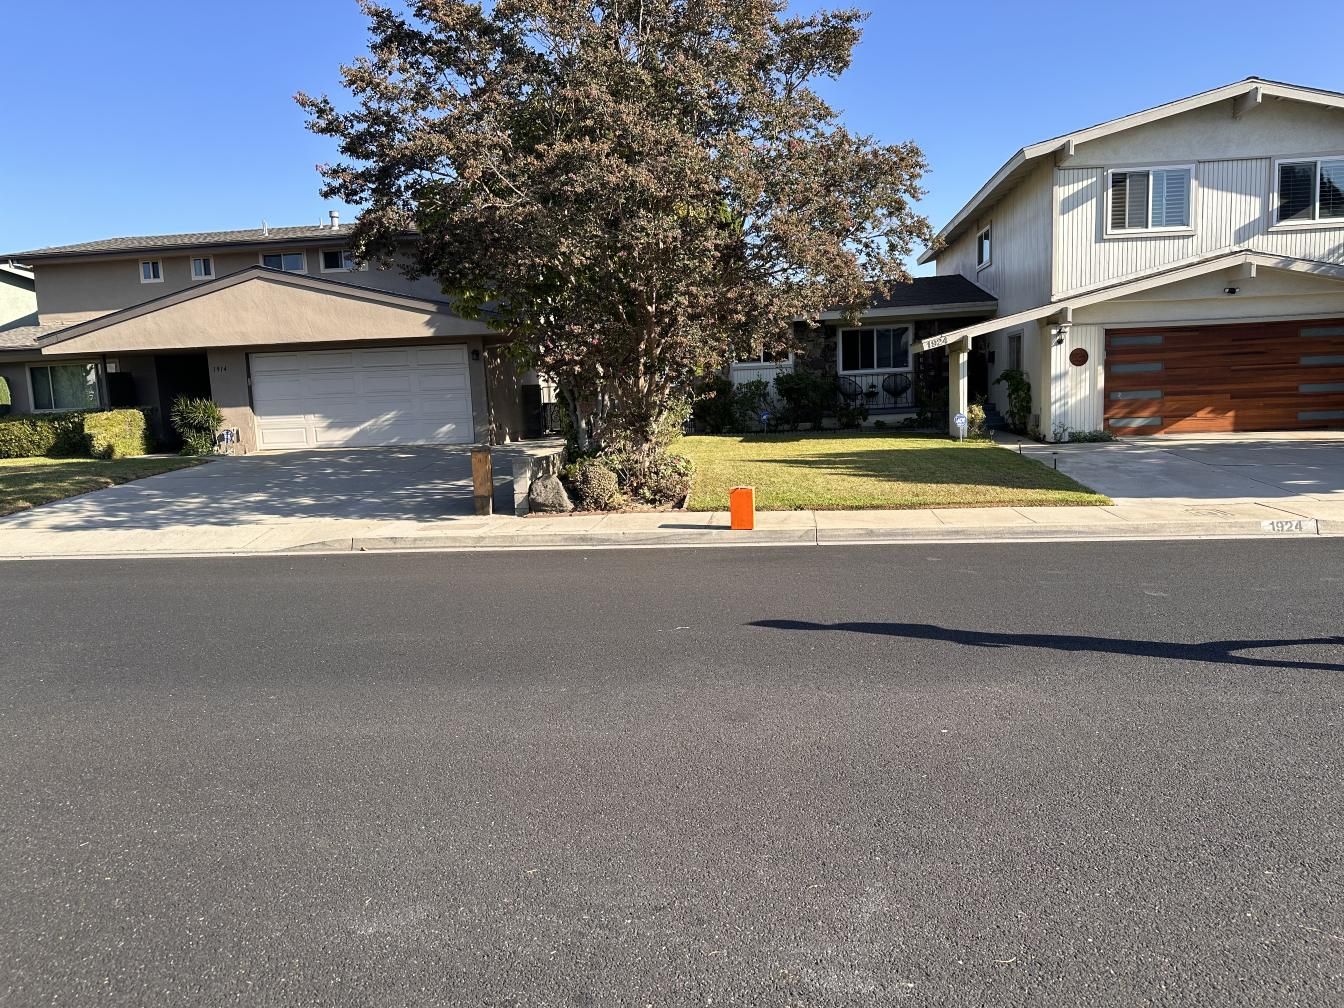curbs-laRr: (359, 530, 734, 551), (738, 526, 1115, 541)
orange box: (729, 482, 759, 530)
